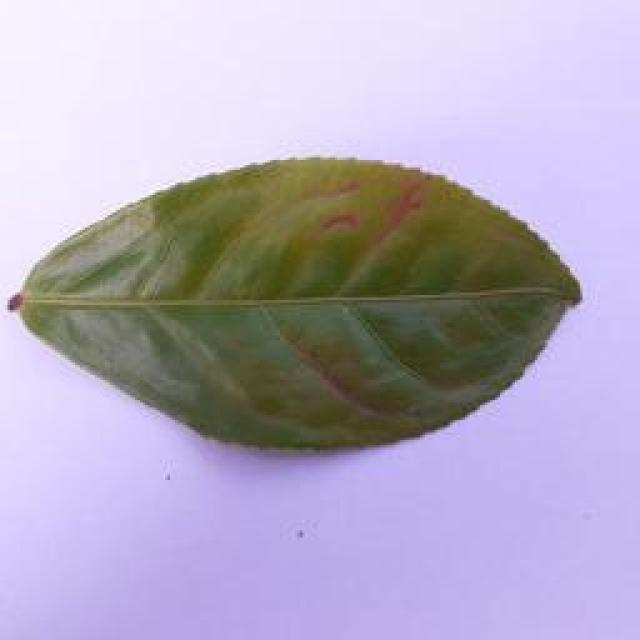Red Leaf Spot: (6, 136, 640, 448)
